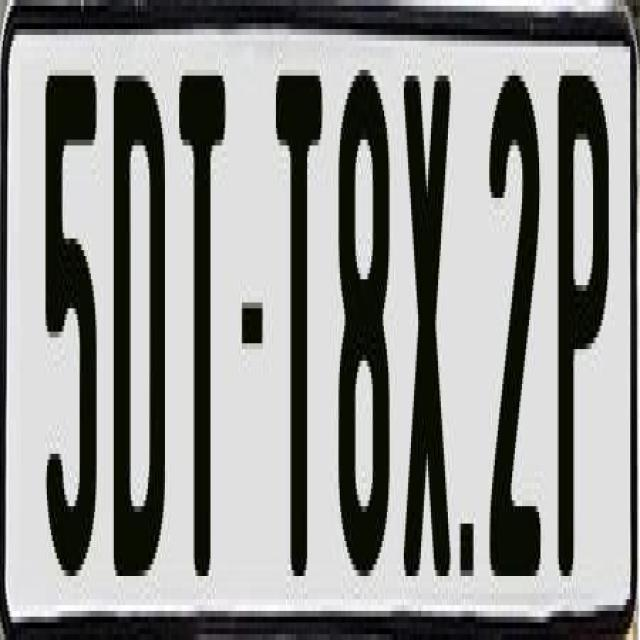2: (486, 70, 544, 594)
5: (42, 58, 96, 594)
8: (338, 64, 392, 576)
D: (114, 63, 172, 564)
P: (553, 76, 606, 594)
T: (272, 58, 324, 588), (174, 58, 223, 576)
X: (402, 70, 456, 606)
